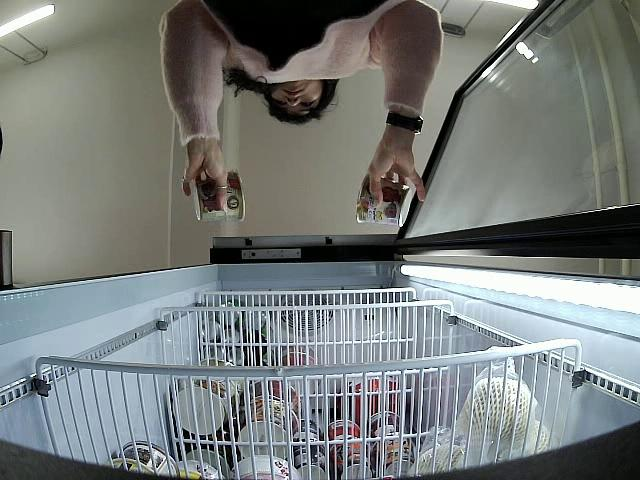00_hand: (370, 141, 427, 211), (181, 147, 229, 214)
04_chapagetti_S: (353, 169, 413, 228), (191, 168, 246, 225)
